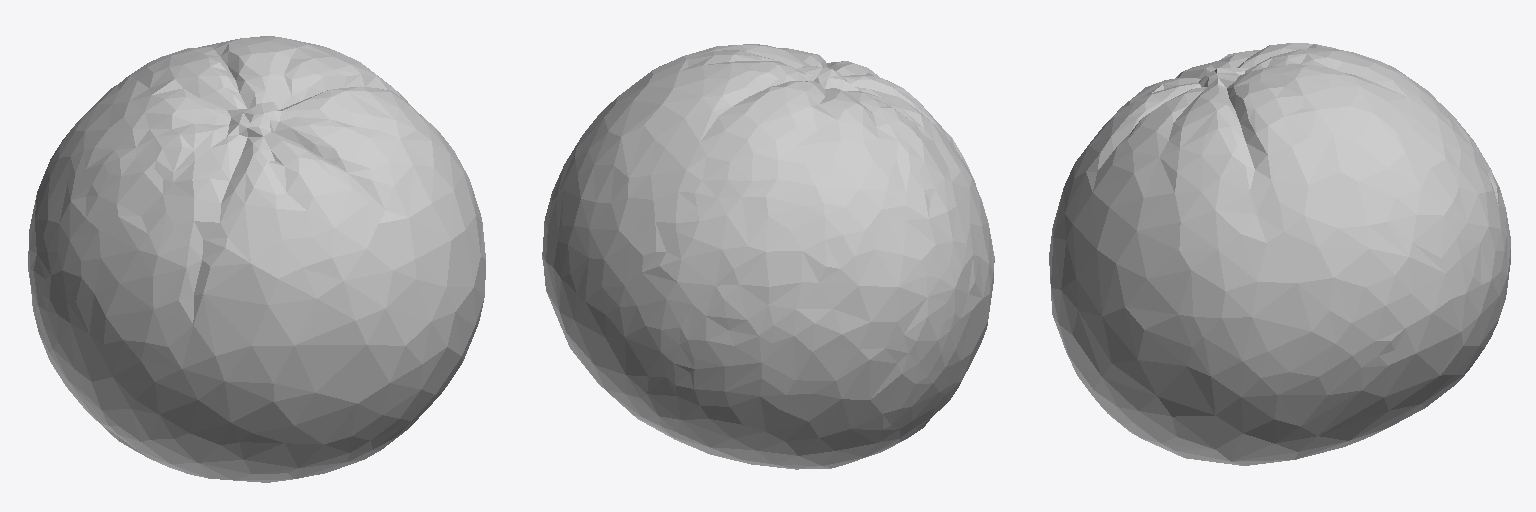
The model's file is orange3.obj.
3 renders of one model, left to right at view 1: azimuth 30°, elevation 25°; view 2: azimuth 150°, elevation 25°; view 3: azimuth 270°, elevation 25°, orthographic.
Parts seen in each view (by area): view 1: Orange2; view 2: Orange2; view 3: Orange2.
Boxes of the visible parts, <box> form: Orange2: <box>28,36,485,482</box>; Orange2: <box>542,44,994,469</box>; Orange2: <box>1049,43,1510,465</box>.
Size of the model in its own units: 2.45 by 2.29 by 2.5.